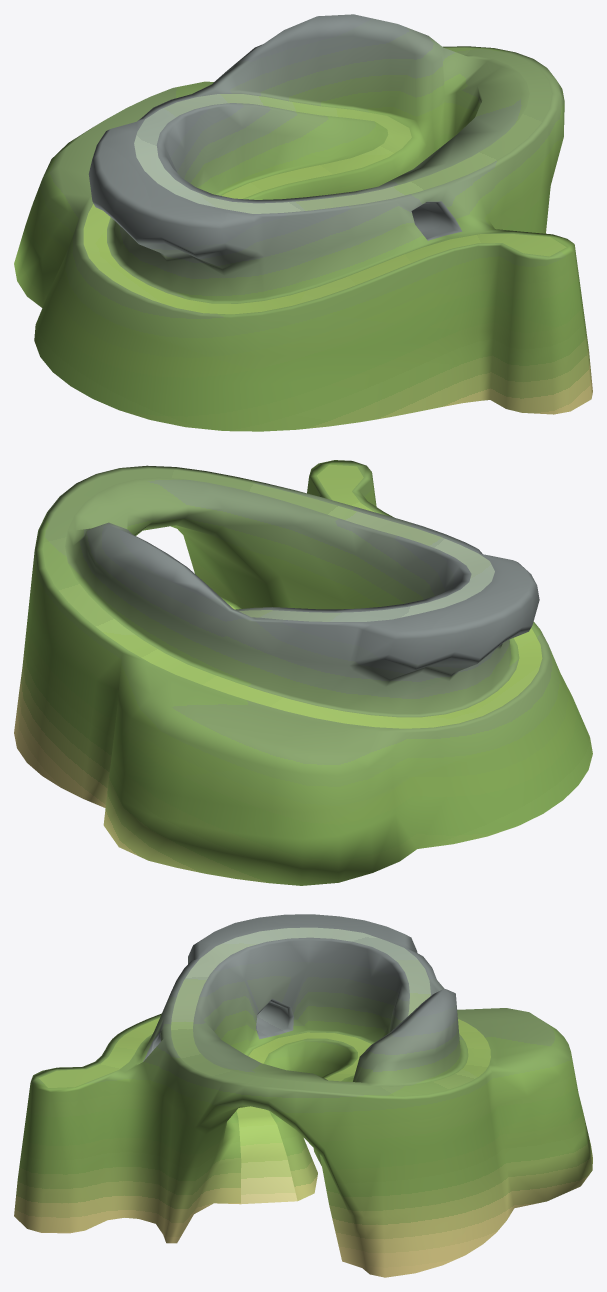
The model's file is model_island_10.fbx.
3 renders of one model, top to bottom at view 1: azimuth 30°, elevation 25°; view 2: azimuth 150°, elevation 25°; view 3: azimuth 270°, elevation 25°, orthographic. The views are drawn at different scales.
Visible parts, largest first — view 1: island_10_geo; view 2: island_10_geo; view 3: island_10_geo.
Part boxes in pixels (x1,y1,x2,y2): island_10_geo: (14,14,592,431); island_10_geo: (14,460,592,885); island_10_geo: (14,914,592,1277).
Bounding box in the file's own units: 420 × 189 × 469.
